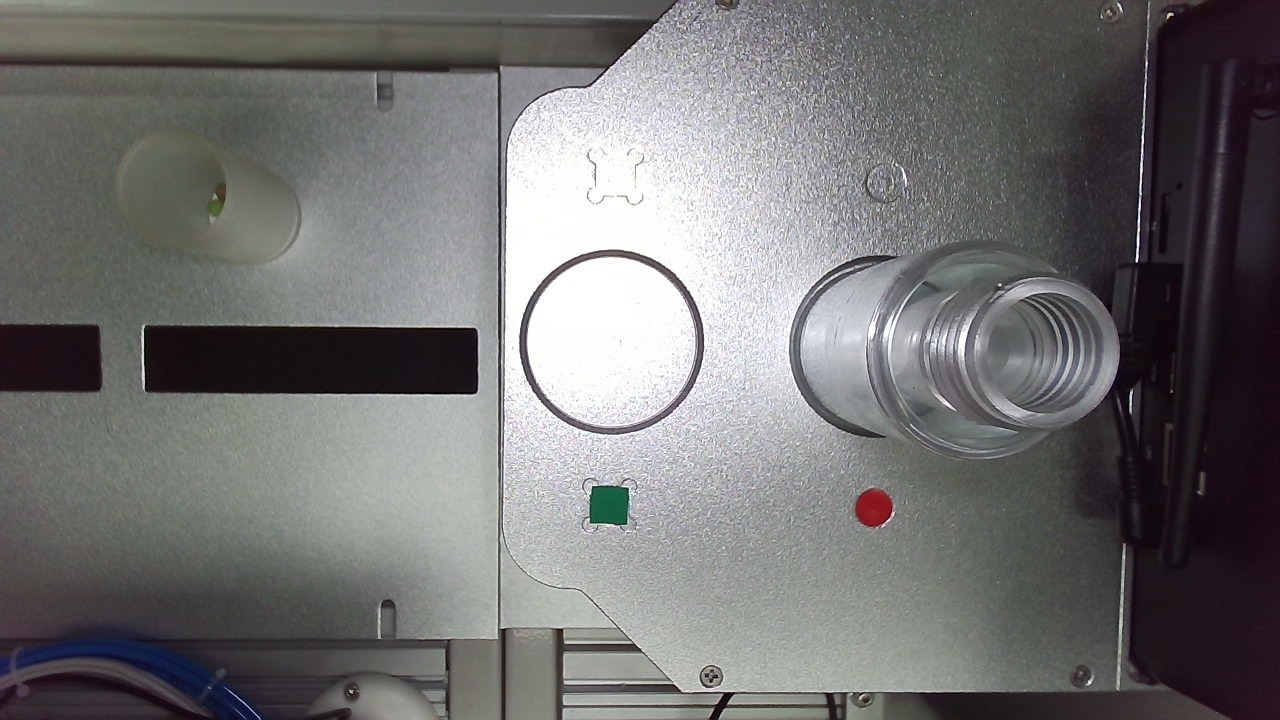XLabel: (474, 41, 540, 107)
YLabel: (900, 78, 973, 151)
none: (758, 210, 1096, 546), (314, 173, 643, 506)
